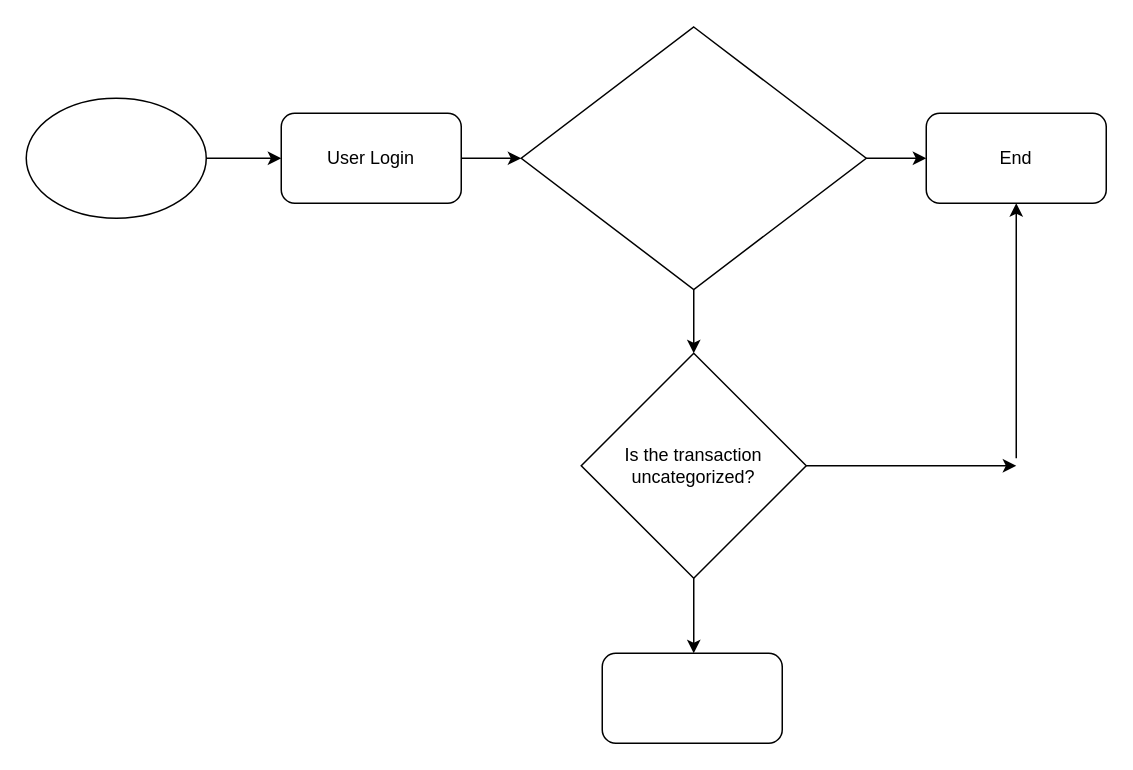
Some shapes in this 1133 by 770 pixel diagram are drawn without their labels. The centre of each missing label's shape, as x and y in pixels:
"Are there new transactions in the database?" belongs at (x=693, y=158).
"Start" belongs at (x=115, y=157).
